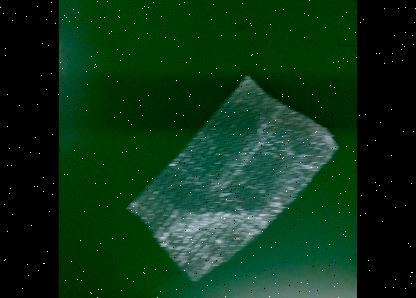Others: (125, 74, 339, 282)
